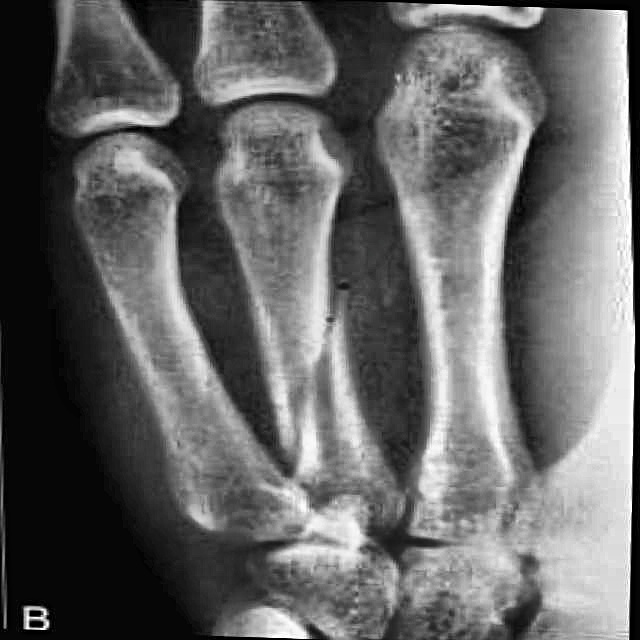Oblique Displaced: (251, 267, 370, 502)
